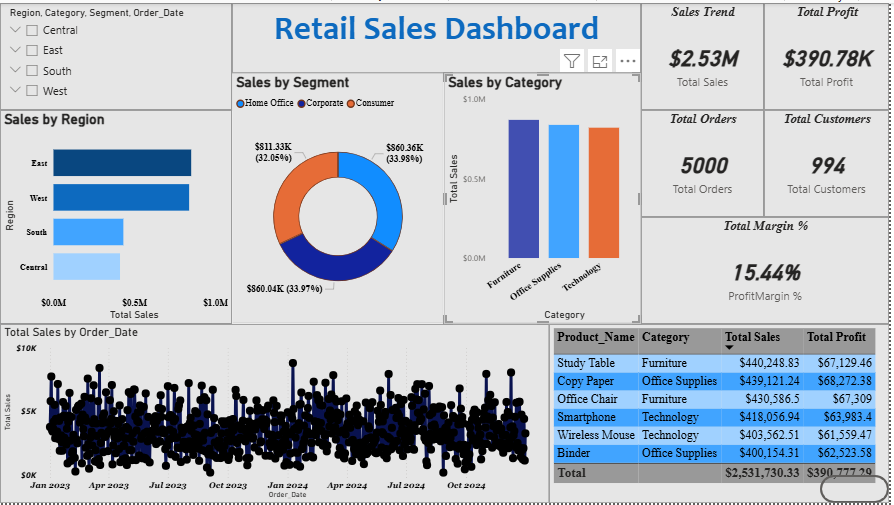

Layout of this report page (visuals, bound fields, positions):
{"tool":"powerbi","page":{"name":"Executive Overview","canvas":[1280,720],"ordinal":0},"visuals":[{"type":"card","title":"Sales Trend","fields":{"Values":["Measures (2).Total Sales"]},"box":[923,0,177.1,154.1],"z":0},{"type":"card","title":"Total Profit","fields":{"Values":["Measures (2).Total Profit"]},"box":[1100.2,0,180,154.1],"z":1000},{"type":"card","title":"Total Orders","fields":{"Values":["Measures (2).Total Orders"]},"box":[923,154.1,177.1,154.1],"z":2000},{"type":"card","title":"Total Margin %","fields":{"Values":["Measures (2).ProfitMargin %"]},"box":[923,308.2,357.1,154.1],"z":3000},{"type":"card","title":"Total Customers","fields":{"Values":["Measures (2).Total Customers"]},"box":[1100.2,154.1,180,154.1],"z":4000},{"type":"lineChart","fields":{"Y":["Measures (2).Total Sales"],"Category":["Orders.Order_Date"]},"box":[0,462.2,790.6,257.8],"z":5000},{"type":"clusteredColumnChart","title":"Sales by Category","fields":{"Category":["Orders.Category"],"Y":["Measures (2).Total Sales"]},"box":[639.4,100.8,283.7,361.4],"z":6000},{"type":"clusteredBarChart","title":"Sales by Region","fields":{"Category":["Orders.Region"],"Y":["Measures (2).Total Sales"]},"box":[0,154.1,334.1,308.2],"z":7000},{"type":"donutChart","title":"Sales by Segment","fields":{"Category":["Orders.Segment"],"Y":["Measures (2).Total Sales"]},"box":[334.1,100.8,305.3,361.4],"z":8000},{"type":"tableEx","fields":{"Values":["Orders.Product_Name","Orders.Category","Measures (2).Total Sales","Measures (2).Total Profit"]},"box":[790.6,462.2,489.6,257.8],"z":9000},{"type":"slicer","fields":{"Values":["Orders.Region","Orders.Category","Orders.Segment","Orders.Order_Date"]},"box":[0,0,334.1,154.1],"z":10000},{"type":"textbox","box":[334.1,0,589,100.8],"z":11000},{"type":"actionButton","box":[1180.8,679.7,99.4,40.3],"z":12000}]}

Visuals, with their boxes in screenshot pixels (x1, y1, x2, y2), scaled from the page's 1280x720 canvas onto the 894x505 screenshot:
"Sales Trend" card: {"left": 645, "top": 0, "right": 768, "bottom": 108}
"Total Profit" card: {"left": 768, "top": 0, "right": 893, "bottom": 108}
"Total Orders" card: {"left": 645, "top": 108, "right": 768, "bottom": 216}
"Total Margin %" card: {"left": 645, "top": 216, "right": 893, "bottom": 324}
"Total Customers" card: {"left": 768, "top": 108, "right": 893, "bottom": 216}
lineChart - Measures (2).Total Sales x Orders.Order_Date: {"left": 0, "top": 324, "right": 552, "bottom": 504}
"Sales by Category" clusteredColumnChart: {"left": 447, "top": 71, "right": 645, "bottom": 324}
"Sales by Region" clusteredBarChart: {"left": 0, "top": 108, "right": 233, "bottom": 324}
"Sales by Segment" donutChart: {"left": 233, "top": 71, "right": 447, "bottom": 324}
tableEx - Orders.Product_Name x Orders.Category: {"left": 552, "top": 324, "right": 893, "bottom": 504}
slicer - Orders.Region x Orders.Category: {"left": 0, "top": 0, "right": 233, "bottom": 108}
textbox: {"left": 233, "top": 0, "right": 645, "bottom": 71}
actionButton: {"left": 825, "top": 477, "right": 893, "bottom": 504}
